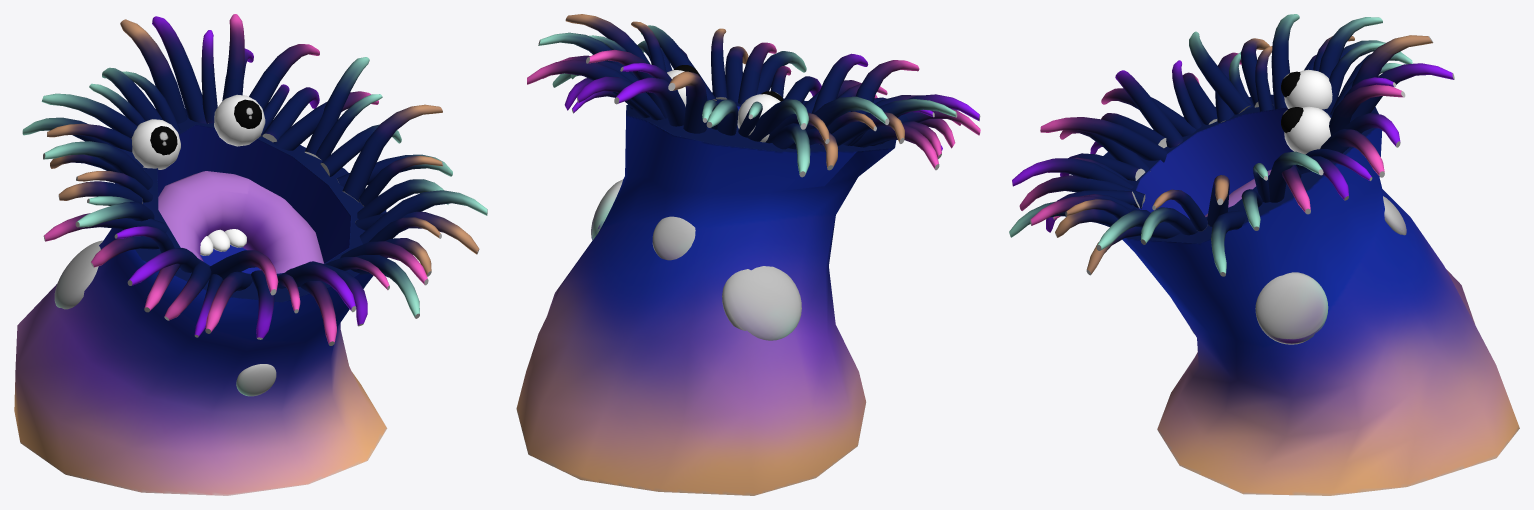
File: AnemoneTurret.fbx
3 views of the same model, side by side, from view 1: azimuth 30°, elevation 25°; view 2: azimuth 150°, elevation 25°; view 3: azimuth 270°, elevation 25° (orthographic).
Parts seen in each view (by area): view 1: base, pCylinder5 (×12), pCylinder3 (×12), pCylinder4 (×11), bouches, pCylinder6 (×10), pSphere5, pSphere2, pSphere1, pSphere8, pCylinder7, pSphere4 (+1 smaller); view 2: base, pCylinder5 (×12), pCylinder3 (×7), pCylinder4 (×6), pSphere5, pCylinder6 (×3), pSphere6, pSphere7, pSphere1; view 3: base, pCylinder5 (×12), pCylinder3 (×9), pCylinder4 (×10), pCylinder6 (×6), pSphere7, pSphere2, pSphere1.
Part boxes in pixels (bbox=[...]): base: bbox=[14, 109, 387, 495]; pCylinder5 (×12): bbox=[41, 14, 487, 312]; pCylinder3 (×12): bbox=[22, 19, 479, 345]; pCylinder4 (×11): bbox=[50, 67, 448, 339]; bouches: bbox=[158, 171, 324, 273]; pCylinder6 (×10): bbox=[76, 30, 443, 337]; pSphere5: bbox=[54, 240, 103, 309]; pSphere2: bbox=[214, 94, 265, 146]; pSphere1: bbox=[131, 119, 180, 169]; pSphere8: bbox=[236, 364, 276, 396]; pCylinder7: bbox=[122, 71, 180, 131]; pSphere4: bbox=[234, 99, 261, 128]; base: bbox=[516, 92, 896, 495]; pCylinder5 (×12): bbox=[538, 14, 980, 145]; pCylinder3 (×7): bbox=[527, 51, 980, 177]; pCylinder4 (×6): bbox=[577, 46, 904, 170]; pSphere5: bbox=[722, 266, 801, 340]; pCylinder6 (×3): bbox=[631, 21, 876, 133]; pSphere6: bbox=[652, 216, 695, 260]; pSphere7: bbox=[591, 179, 622, 240]; pSphere1: bbox=[737, 94, 780, 142]; base: bbox=[1103, 94, 1519, 495]; pCylinder5 (×12): bbox=[1012, 14, 1454, 250]; pCylinder3 (×9): bbox=[1019, 35, 1433, 276]; pCylinder4 (×10): bbox=[1046, 38, 1400, 244]; pCylinder6 (×6): bbox=[1065, 42, 1384, 231]; pSphere7: bbox=[1255, 272, 1328, 344]; pSphere2: bbox=[1284, 106, 1330, 154]; pSphere1: bbox=[1284, 69, 1332, 109].
Size of the model in its own units: 5.63 by 5.19 by 6.37.
1 material, 1 textured.
